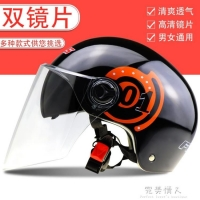helmet: (40, 47, 195, 160)
